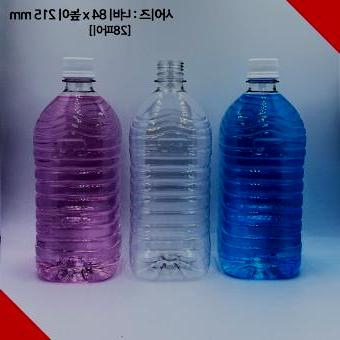bottle: (35, 56, 124, 284), (217, 58, 306, 279), (128, 58, 213, 282)
